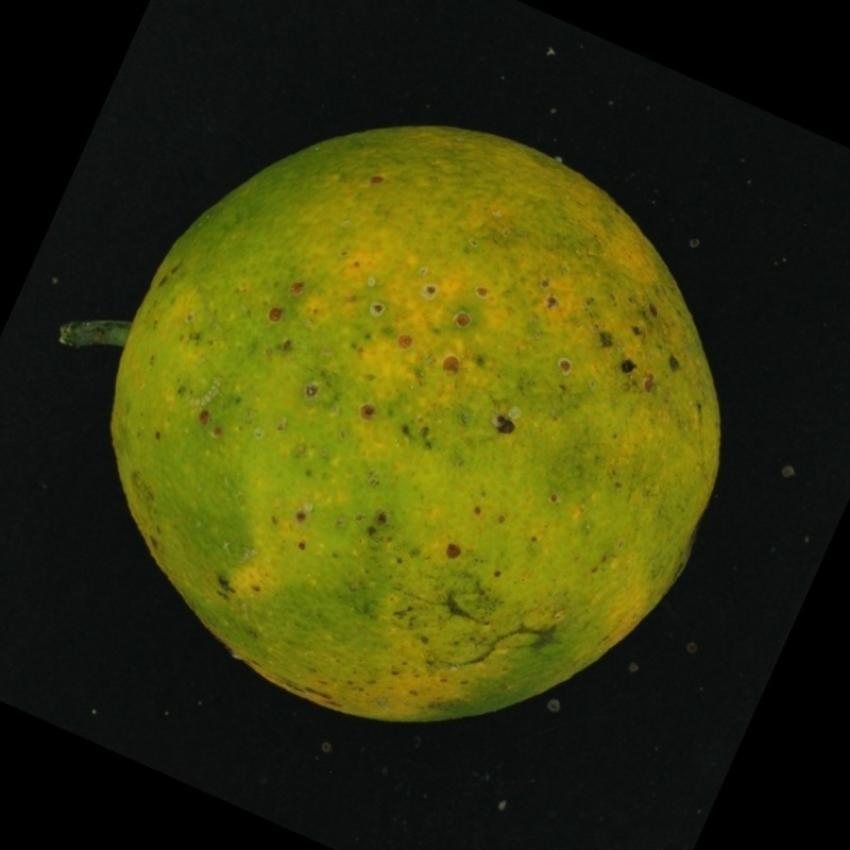Mal estado: (85, 103, 766, 730)
